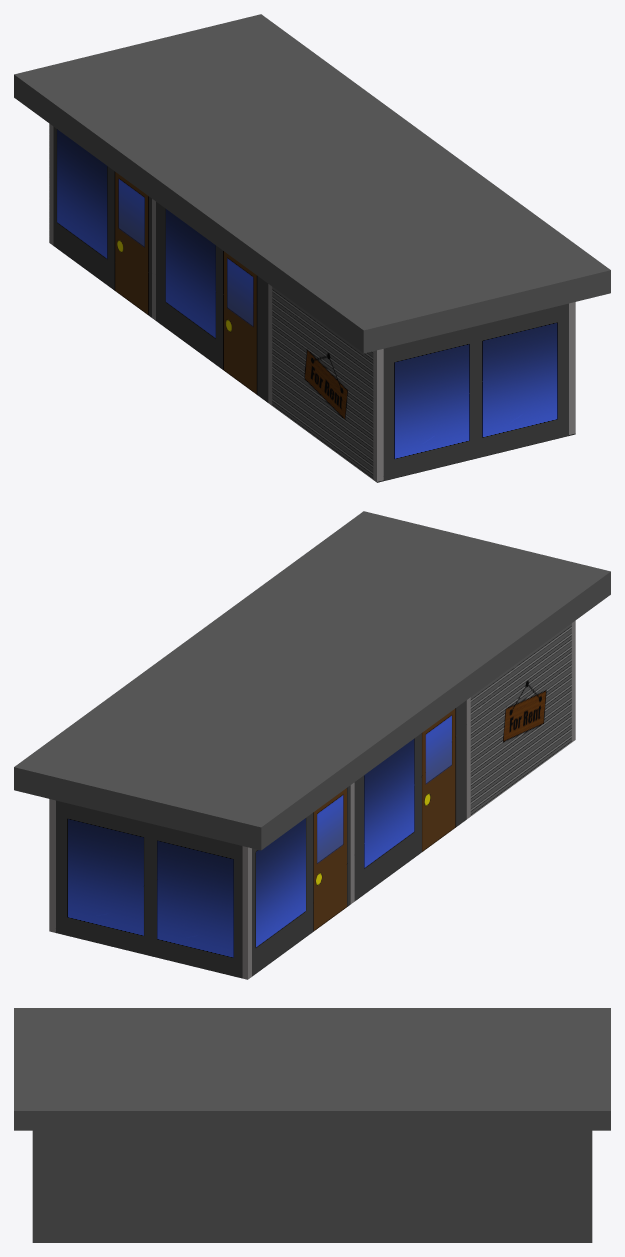
The model's file is Building7 V2.fbx.
3 views of the same model, one above another, from view 1: azimuth 30°, elevation 25°; view 2: azimuth 150°, elevation 25°; view 3: azimuth 270°, elevation 25° (orthographic). The views are drawn at different scales.
Visible parts, largest first — view 1: Building23; view 2: Building23; view 3: Building23.
Boxes of the visible parts, x1,y1,x2,y2 form: Building23: (14,14,610,482); Building23: (14,511,610,979); Building23: (14,1008,610,1242).
Bounding box in the file's own units: 1198 × 770 × 2935.
2 materials, 1 textured.
